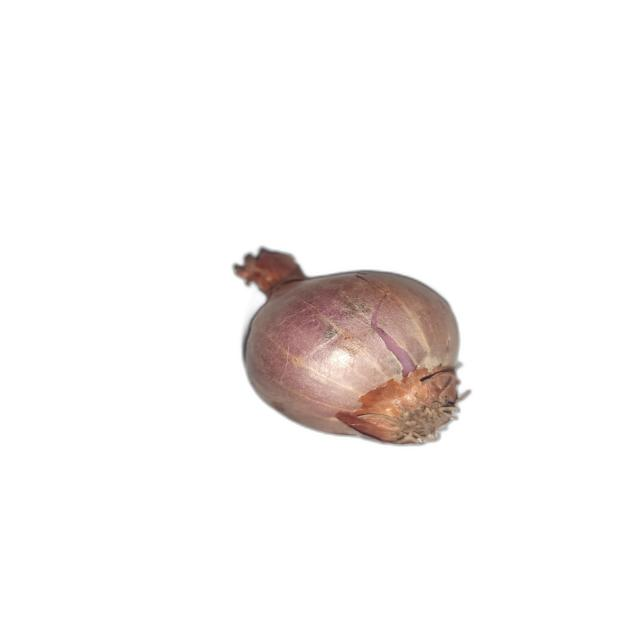onion: (231, 245, 472, 446)
